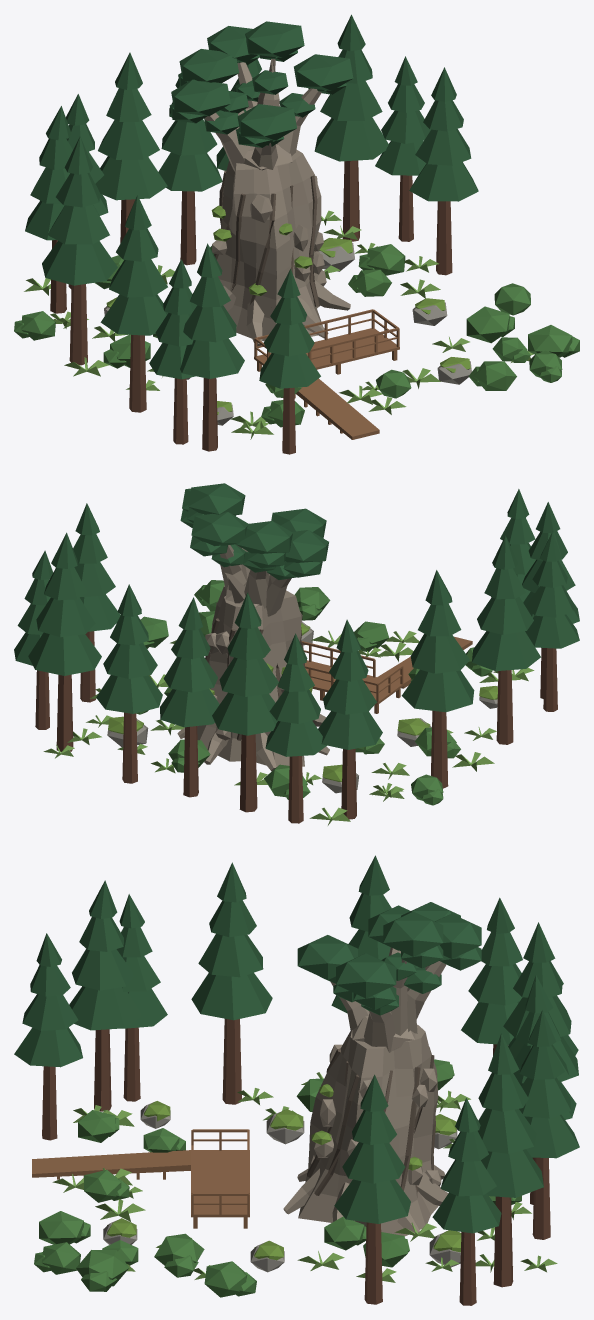
File: jomon-sugi.glb
3 renders of one model, top to bottom at view 1: azimuth 30°, elevation 25°; view 2: azimuth 150°, elevation 25°; view 3: azimuth 270°, elevation 25°, orthographic. The views are drawn at different scales.
Parts seen in each view (by area): view 1: jomon_cedar, jomon_barkpale, jomon_leaf, jomon_bark, jomon_wood, jomon_fern, jomon_moss, jomon_stone, jomon_barkdk; view 2: jomon_cedar, jomon_bark, jomon_barkpale, jomon_leaf, jomon_fern, jomon_wood, jomon_moss, jomon_stone; view 3: jomon_cedar, jomon_barkpale, jomon_leaf, jomon_bark, jomon_wood, jomon_fern, jomon_moss, jomon_stone, jomon_barkdk.
Boxes of the visible parts, x1,y1,x2,y2 form: jomon_cedar: (25,14,478,388); jomon_barkpale: (192,59,350,346); jomon_leaf: (14,244,579,427); jomon_bark: (50,160,452,454); jomon_wood: (254,309,399,439); jomon_fern: (24,210,533,439); jomon_moss: (106,205,470,414); jomon_stone: (104,242,471,425); jomon_barkdk: (214,170,319,306); jomon_cedar: (14,483,579,756); jomon_bark: (35,631,557,823); jomon_barkpale: (177,545,329,771); jomon_leaf: (136,580,492,805); jomon_fern: (43,630,534,825); jomon_wood: (301,636,472,713); jomon_moss: (108,623,497,781); jomon_stone: (107,621,497,793); jomon_cedar: (14,855,579,1233); jomon_barkpale: (283,947,448,1236); jomon_leaf: (34,1059,521,1297); jomon_bark: (42,1018,550,1305); jomon_wood: (32,1129,249,1228); jomon_fern: (52,1072,557,1282); jomon_moss: (107,1084,461,1260); jomon_stone: (103,1102,460,1272); jomon_barkdk: (307,1048,435,1195).
Bounding box in the file's own units: 18.81 × 11.27 × 19.21.
